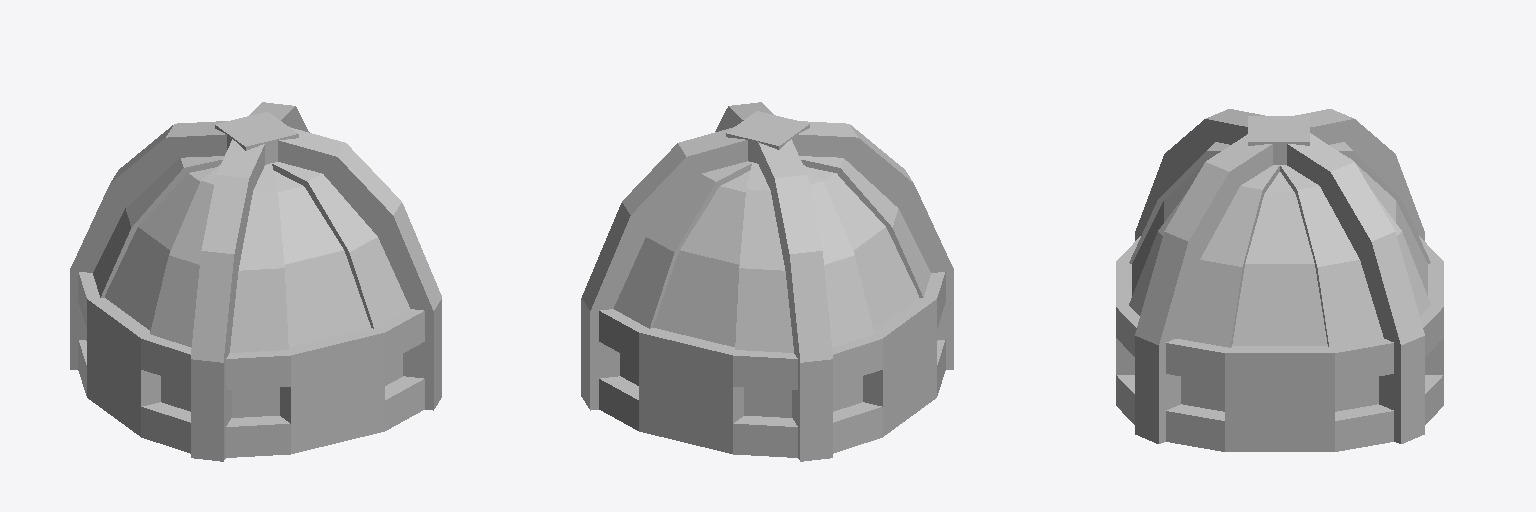
Rendered from research_lab.obj.
3 views of the same model, side by side, from view 1: azimuth 30°, elevation 25°; view 2: azimuth 150°, elevation 25°; view 3: azimuth 270°, elevation 25° (orthographic).
Parts seen in each view (by area): view 1: cube; view 2: cube; view 3: cube.
Boxes of the visible parts, <box> form: cube: <box>70,102,441,461</box>; cube: <box>581,102,953,461</box>; cube: <box>1116,109,1443,451</box>.
Size of the model in its own units: 3 by 2.57 by 3.